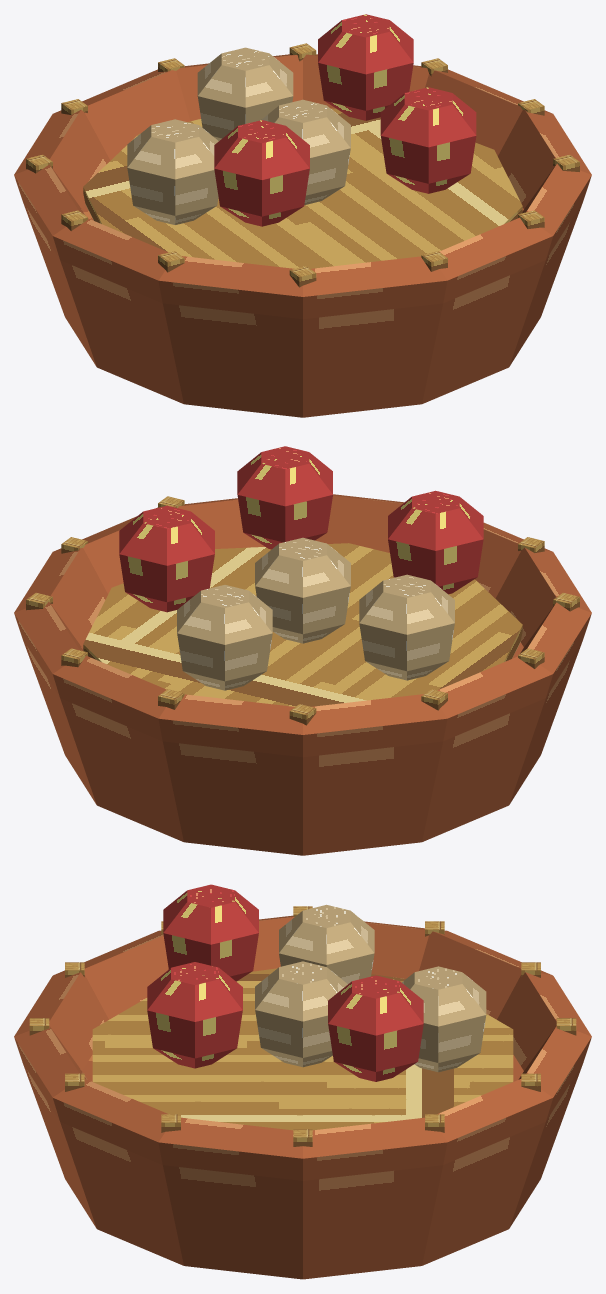
The model's file is prop_food_bowl.glb.
3 views of the same model, one above another, from view 1: azimuth 30°, elevation 25°; view 2: azimuth 150°, elevation 25°; view 3: azimuth 270°, elevation 25° (orthographic).
Visible parts, largest first — view 1: prop_food_bowl; view 2: prop_food_bowl; view 3: prop_food_bowl.
Boxes of the visible parts, x1,y1,x2,y2 form: prop_food_bowl: [14, 14, 591, 417]; prop_food_bowl: [14, 446, 591, 855]; prop_food_bowl: [14, 884, 591, 1279].
Size of the model in its own units: 7 by 3.5 by 7.
Materials: 1 (1 with a texture image).
